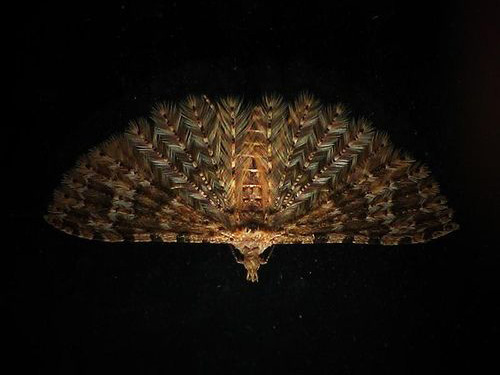Alucitidae: (42, 87, 461, 281)
moth: (44, 89, 463, 283)
